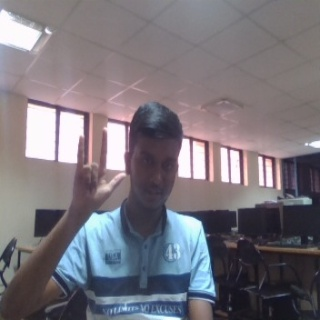Face: (124, 101, 185, 211)
I Love You: (71, 125, 127, 220)
